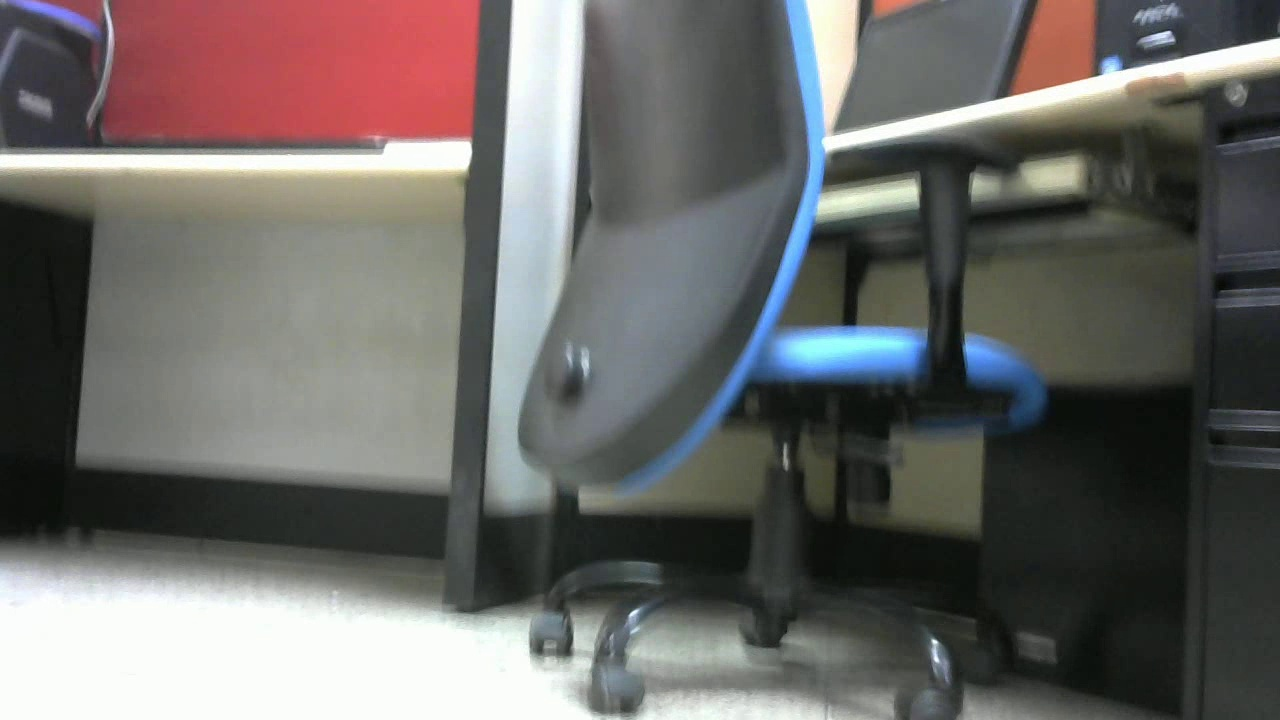chair: (515, 2, 1046, 720)
